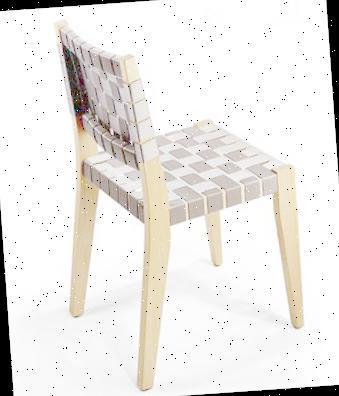Silla: (58, 10, 305, 393)
